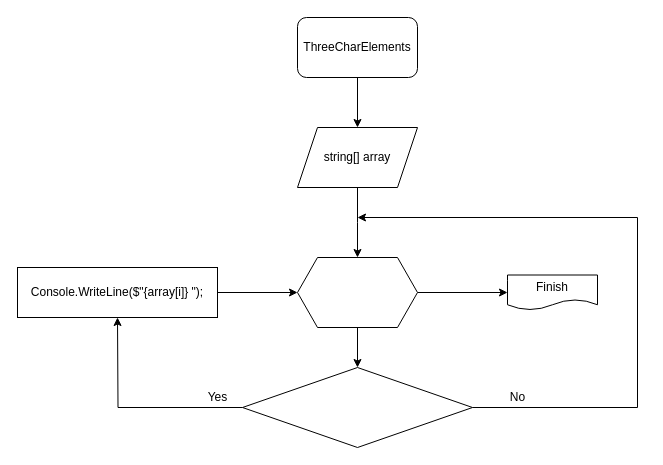
Some shapes in this 663 by 465 pixel diagram are drawn without their labels. The centre of each missing label's shape, as x and y in pixels:
"array[i].Length <= 3" goes at point 357,407.
"int i = 0; i < array.Length; i++;" goes at point 357,292.
